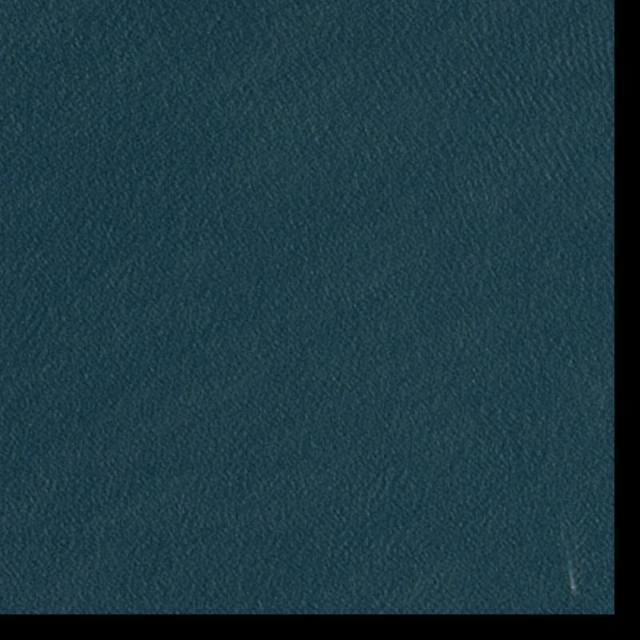ship: (570, 585, 578, 598)
